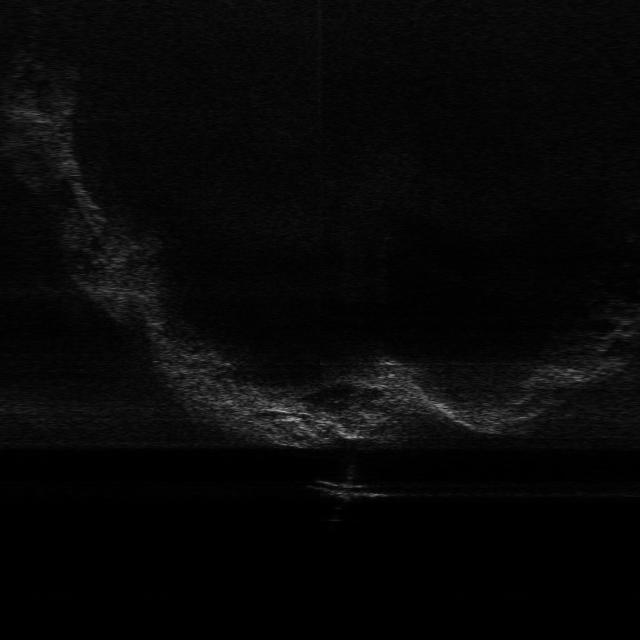plane: (306, 476, 396, 504)
